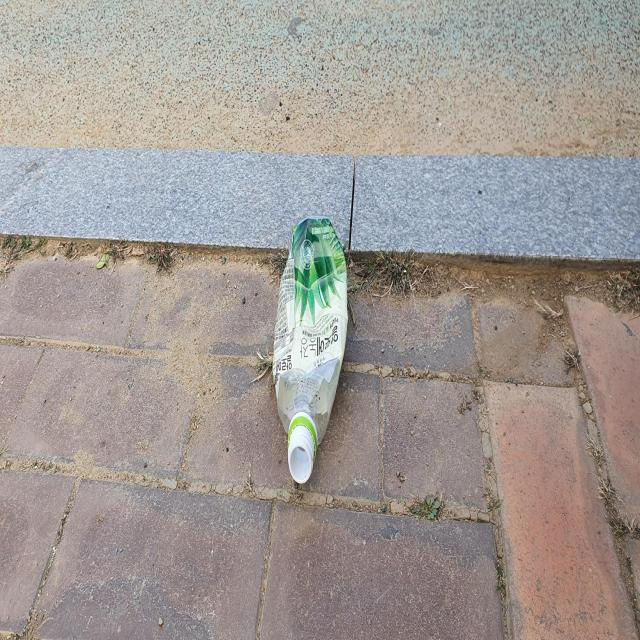plastic: (273, 216, 348, 483)
